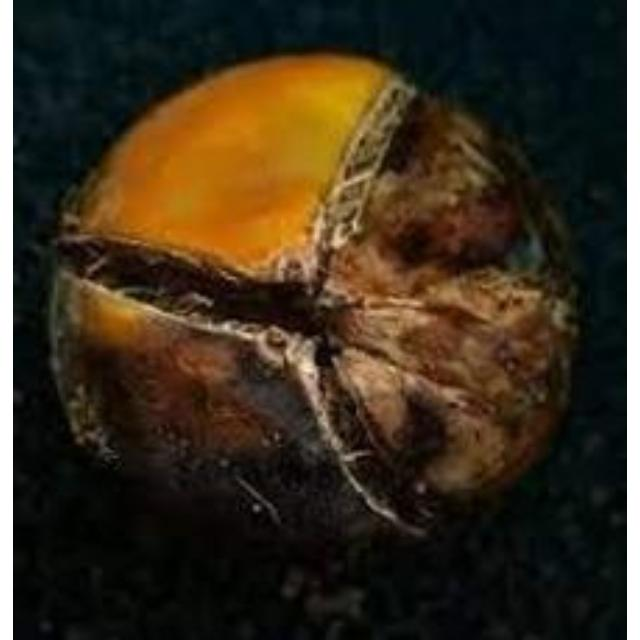damaged: (49, 53, 589, 542)
